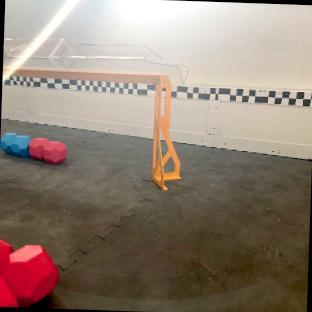Goal: (3, 35, 180, 189)
V5_BLUE: (0, 133, 31, 157)
V5_RED: (0, 240, 58, 307), (29, 138, 67, 164)
